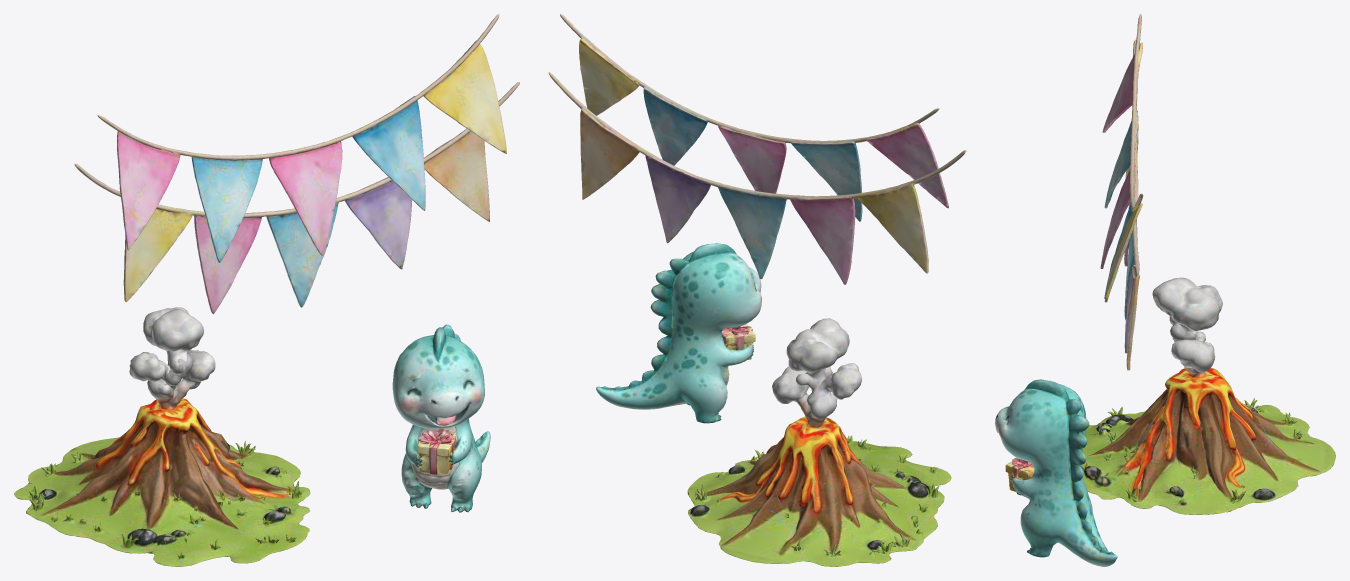
The picture shows the model from 3 angles, left to right: view 1: azimuth 30°, elevation 25°; view 2: azimuth 150°, elevation 25°; view 3: azimuth 270°, elevation 25°; orthographic projection. The views are drawn at different scales.
Parts seen in each view (by area): view 1: Mesh 2, Mesh 3, Mesh 1, Mesh 4; view 2: Mesh 2, Mesh 1, Mesh 4, Mesh 3; view 3: Mesh 2, Mesh 4, Mesh 3, Mesh 1.
Boxes of the visible parts, x1=… form: Mesh 2: x1=14, y1=307, x2=310, y2=566; Mesh 3: x1=97, y1=14, x2=506, y2=262; Mesh 1: x1=74, y1=82, x2=519, y2=313; Mesh 4: x1=392, y1=324, x2=490, y2=512; Mesh 2: x1=687, y1=318, x2=951, y2=566; Mesh 1: x1=548, y1=72, x2=966, y2=284; Mesh 4: x1=596, y1=243, x2=761, y2=423; Mesh 3: x1=560, y1=14, x2=948, y2=221; Mesh 2: x1=1081, y1=277, x2=1335, y2=514; Mesh 4: x1=995, y1=379, x2=1117, y2=566; Mesh 3: x1=1100, y1=14, x2=1143, y2=302; Mesh 1: x1=1124, y1=39, x2=1139, y2=370.
Bounding box in the file's own units: 1.89 × 1.75 × 1.35.
4 materials, 4 textured.
